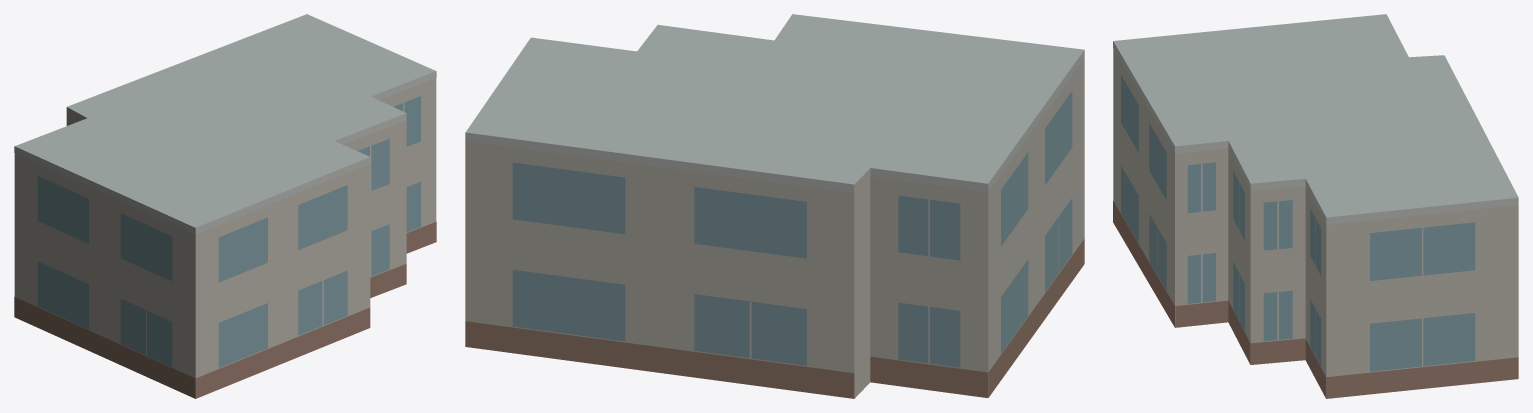
The model's file is survey-upis-33040067.glb.
3 renders of one model, left to right at view 1: azimuth 30°, elevation 25°; view 2: azimuth 150°, elevation 25°; view 3: azimuth 270°, elevation 25°, orthographic. The views are drawn at different scales.
Visible parts, largest first — view 1: survey-upis-33040067.tmp; view 2: survey-upis-33040067.tmp; view 3: survey-upis-33040067.tmp.
Part boxes in pixels (bbox=[...]): survey-upis-33040067.tmp: bbox=[14, 14, 436, 398]; survey-upis-33040067.tmp: bbox=[465, 14, 1084, 398]; survey-upis-33040067.tmp: bbox=[1113, 14, 1518, 398].
Size of the model in its own units: 14.69 by 6.1 by 12.38.
